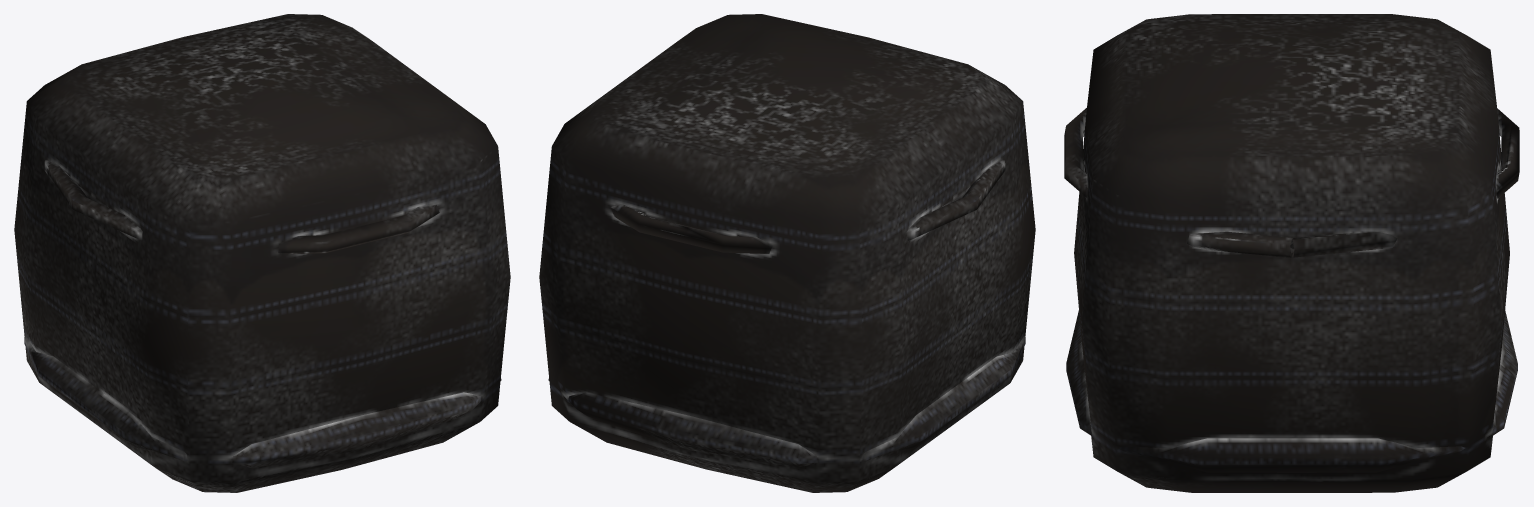
File: Maton_MangaAbajoDer.fbx
3 renders of one model, left to right at view 1: azimuth 30°, elevation 25°; view 2: azimuth 150°, elevation 25°; view 3: azimuth 270°, elevation 25°, orthographic. The views are drawn at different scales.
Parts seen in each view (by area): view 1: Maton_MangaAbajoDer; view 2: Maton_MangaAbajoDer; view 3: Maton_MangaAbajoDer.
Boxes of the visible parts, bbox=[...] form: Maton_MangaAbajoDer: bbox=[14, 14, 510, 492]; Maton_MangaAbajoDer: bbox=[539, 14, 1035, 492]; Maton_MangaAbajoDer: bbox=[1064, 14, 1519, 492].
Size of the model in its own units: 1.42 by 1.19 by 1.38.
